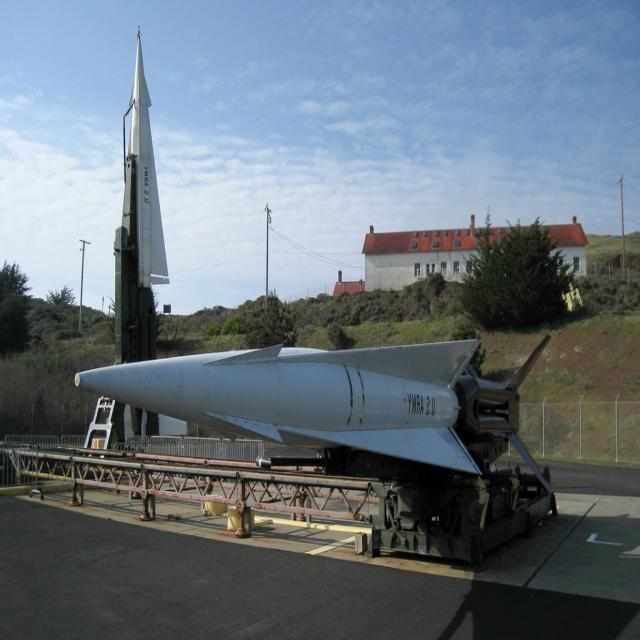missile: (77, 352, 461, 457), (122, 27, 167, 286)
